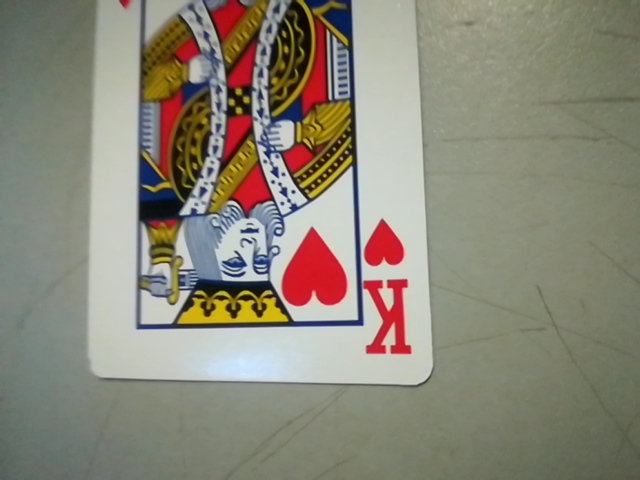hx k: (355, 212, 423, 369)
